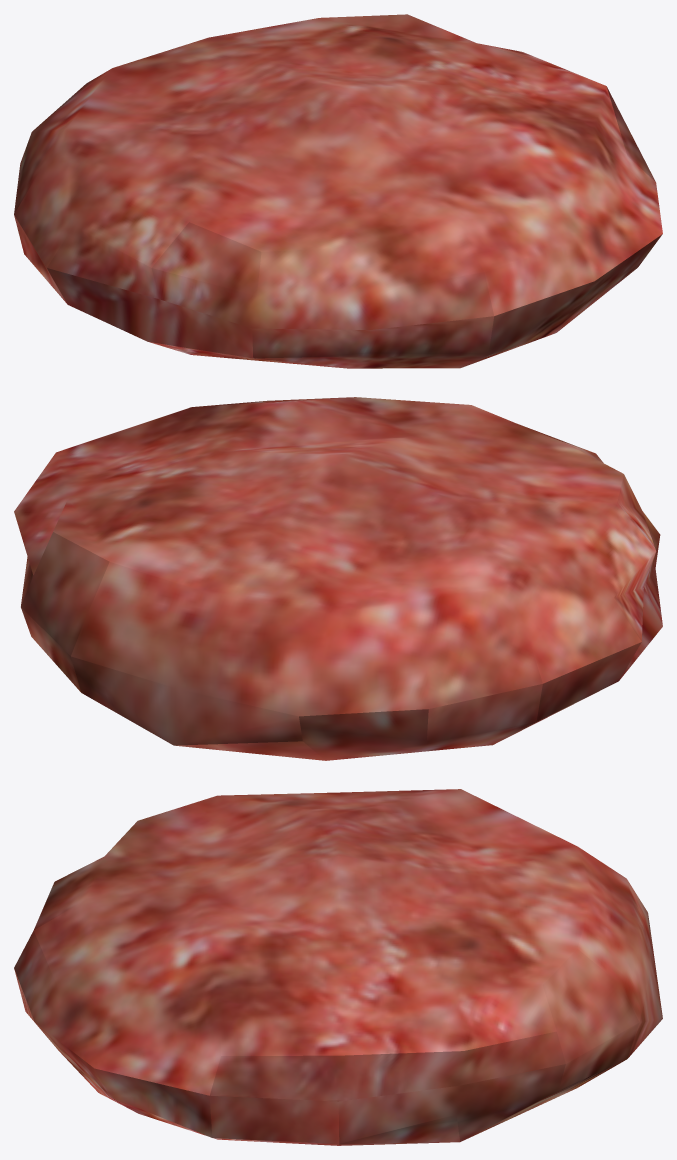
The model's file is Beef_patty.fbx.
3 views of the same model, one above another, from view 1: azimuth 30°, elevation 25°; view 2: azimuth 150°, elevation 25°; view 3: azimuth 270°, elevation 25° (orthographic). The views are drawn at different scales.
Visible parts, largest first — view 1: patty; view 2: patty; view 3: patty.
Part boxes in pixels (<box>): patty: <box>14,14,662,368</box>; patty: <box>14,397,662,760</box>; patty: <box>14,789,662,1145</box>.
Bounding box in the file's own units: 0.2078 × 0.0732 × 0.2059.
